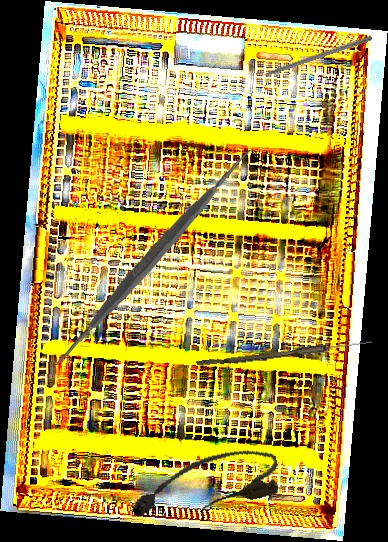Cannula: (125, 441, 284, 527)
Hook Surgical: (249, 34, 373, 82)
Spatula Surgical: (42, 143, 265, 372)
Surgical Spoon: (196, 336, 373, 371)
